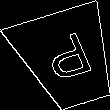P_S: (36, 29, 98, 89)
